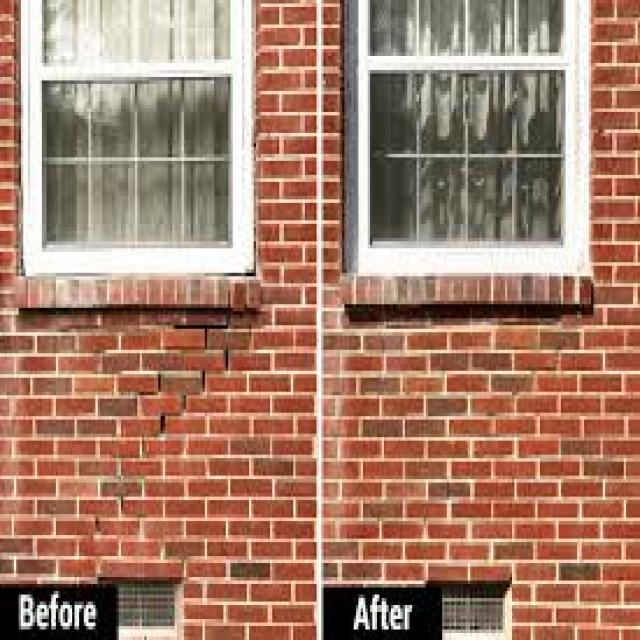Crack: (114, 304, 235, 514)
